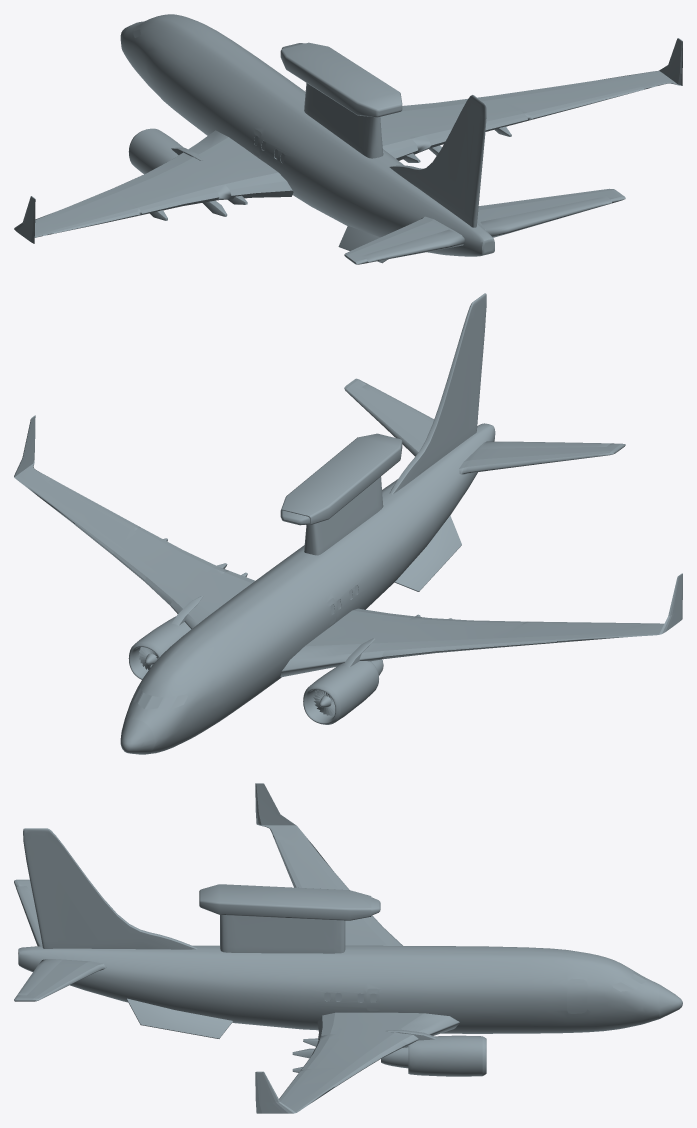
The model's file is model-aircraft-aw-3.glb.
The picture shows the model from 3 angles, top to bottom: view 1: azimuth 30°, elevation 25°; view 2: azimuth 150°, elevation 25°; view 3: azimuth 270°, elevation 25°; orthographic projection. The views are drawn at different scales.
Size of the model in its own units: 36.77 by 12.28 by 35.89.
